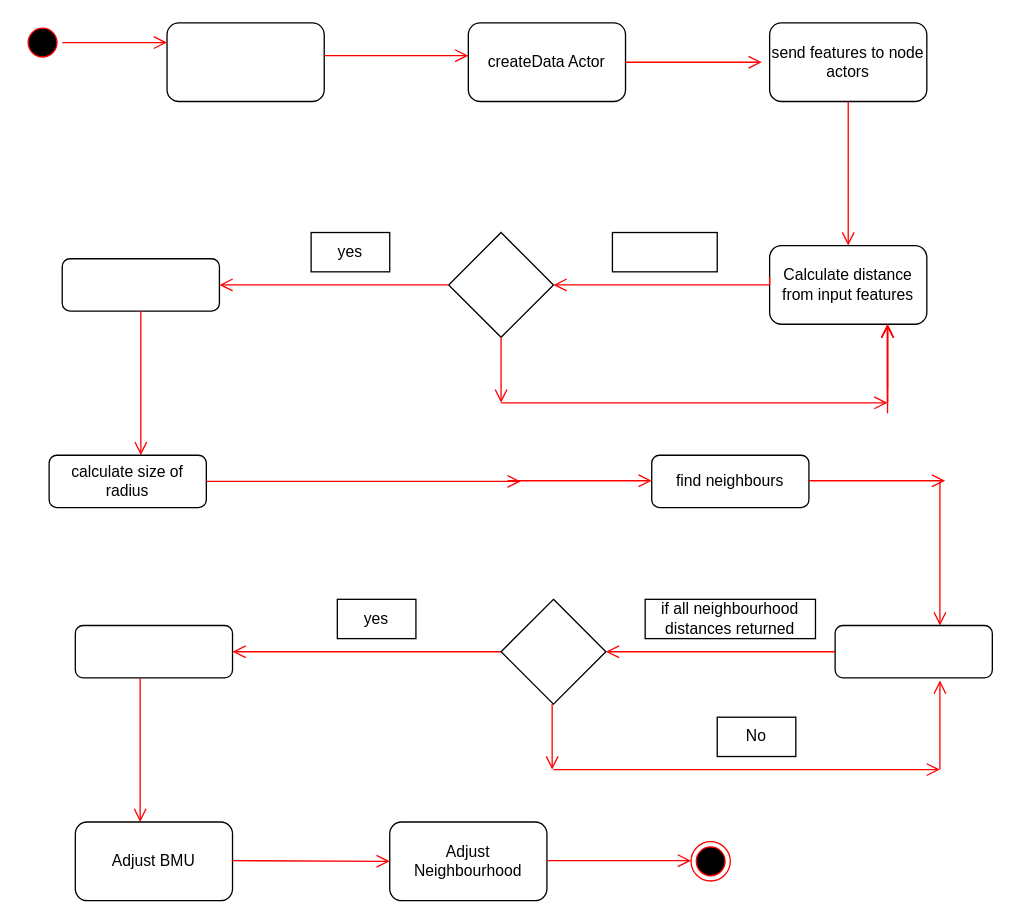
This 1015x924 diagram has some shape labels left out. The shapes that lost their labels are listed below. From the top down, each one's centre as x and y in pixels, then its label:
pixel 245 62: Spawn Node Actors
pixel 664 251: if all distances returned
pixel 140 284: calculate BMU
pixel 153 651: calculate learning rate
pixel 913 651: neighbours calculate distance from BMU
